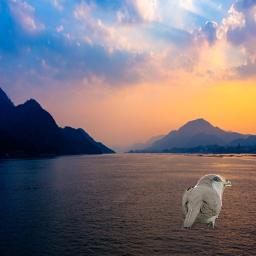Cuckoo: (180, 174, 232, 230)
